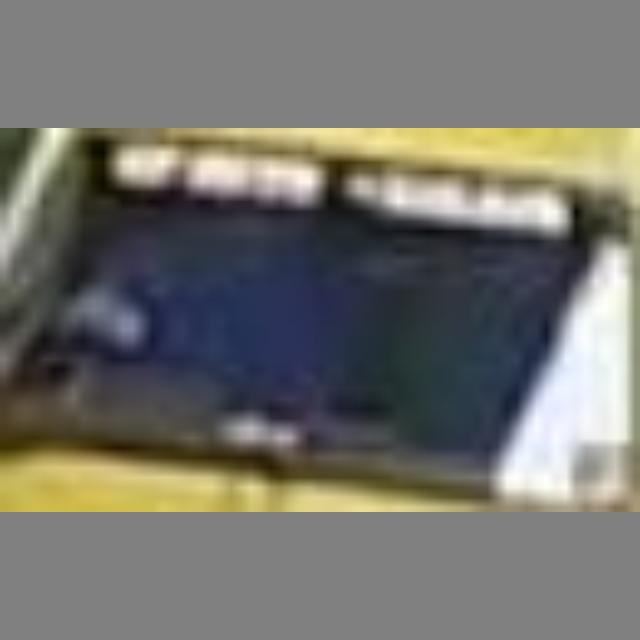tidak-pakai: (138, 207, 384, 394)
